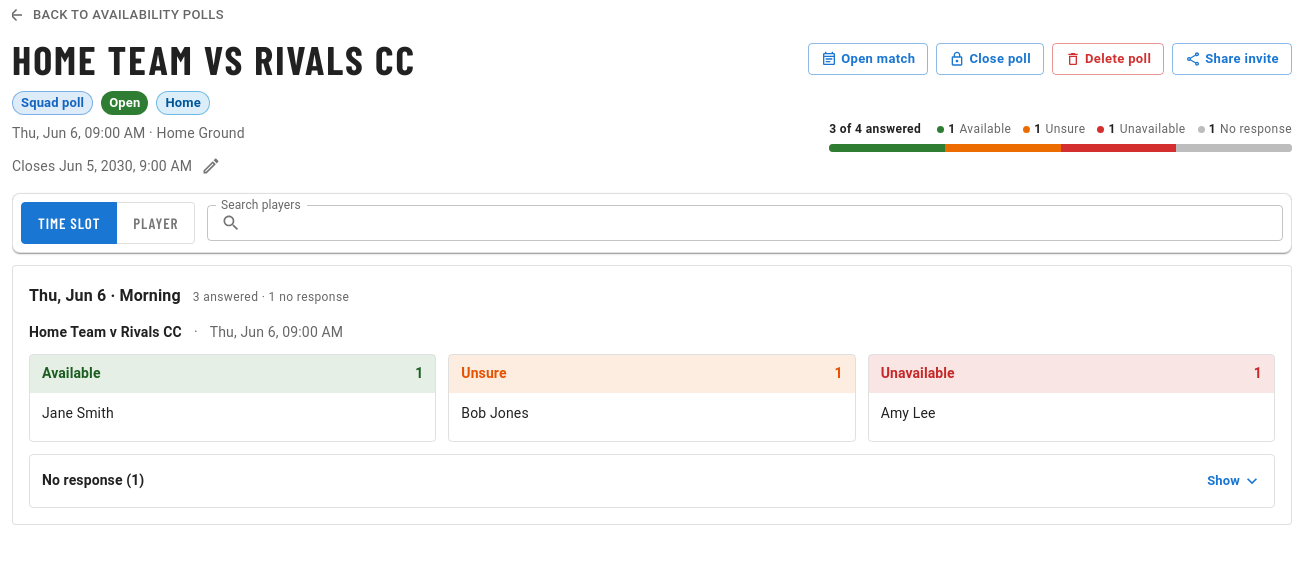
Scenario: SquadPollResponsesPage › collapses No response to its count and expands it
Expected: the heading "Home Team vs Rivals CC" is shown, x1=12 y1=39 x2=416 y2=79
Expected: the heading "No response (1)" is shown, x1=38 y1=470 x2=144 y2=492
Click the button named "show no response players" at (652,481), box x1=38 y1=463 x2=1266 y2=499
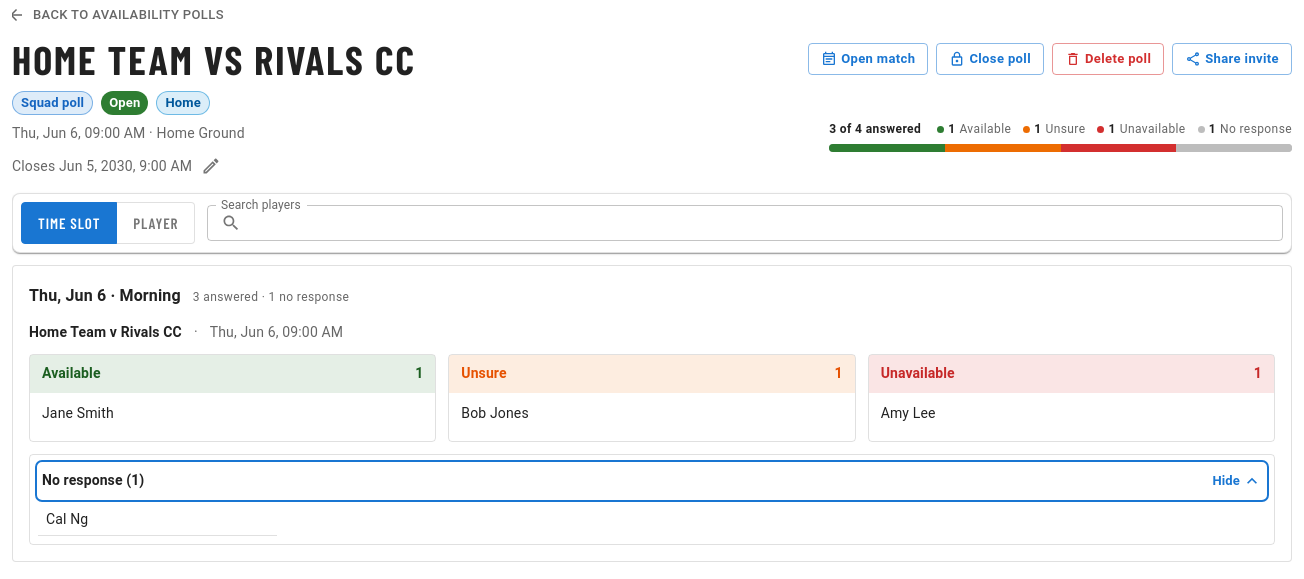
Expected: the text "Cal Ng" is shown, x1=46 y1=511 x2=88 y2=527
Click the button named "hide no response players" at (652,481), box x1=38 y1=463 x2=1266 y2=499
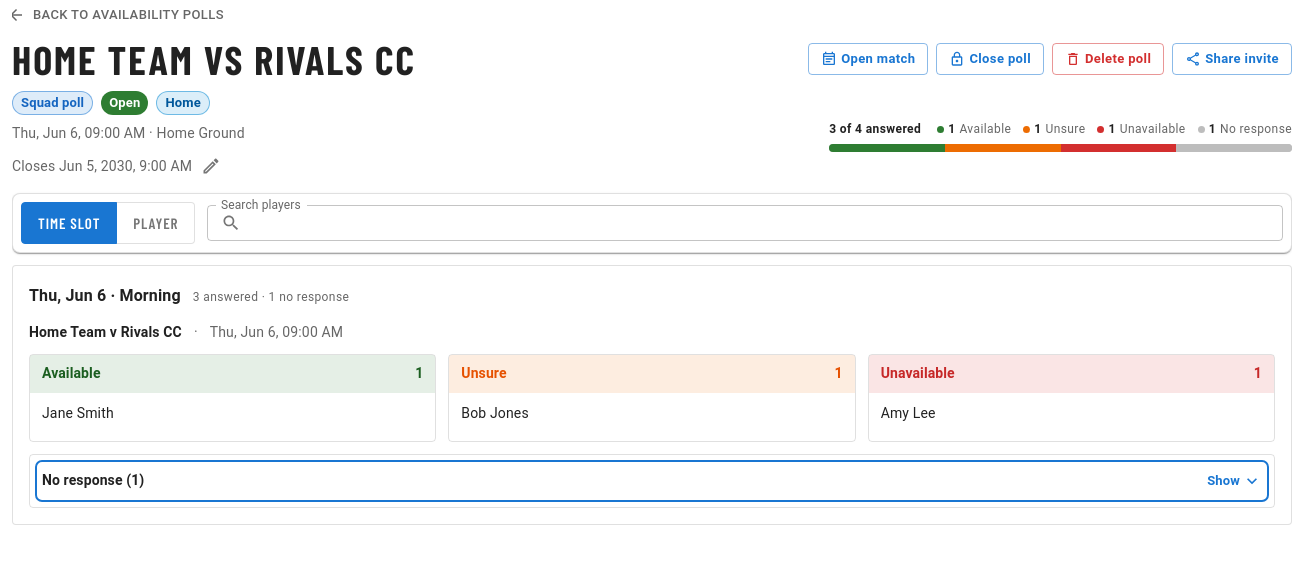
Expected: the button "Cal Ng" is gone
